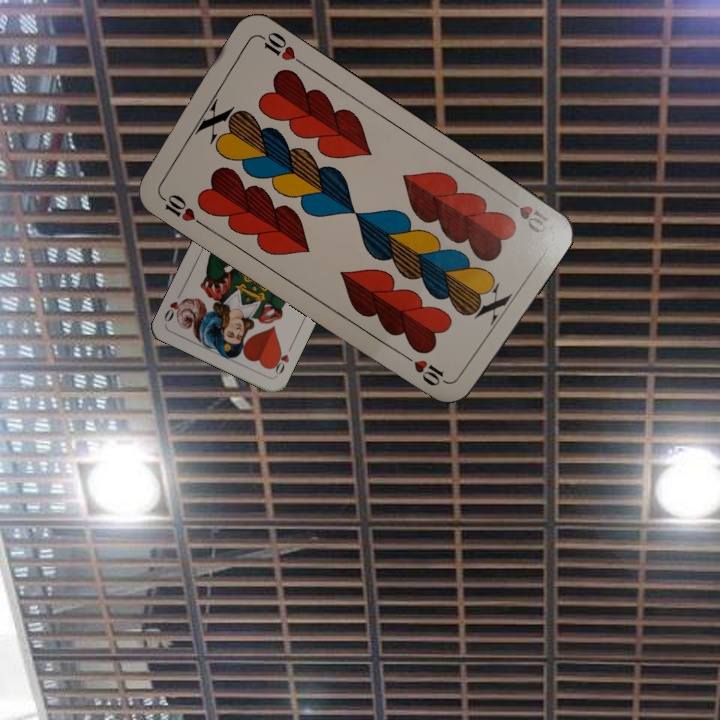H10: (500, 192, 556, 237), (154, 188, 206, 229)
HO: (268, 340, 295, 379)
